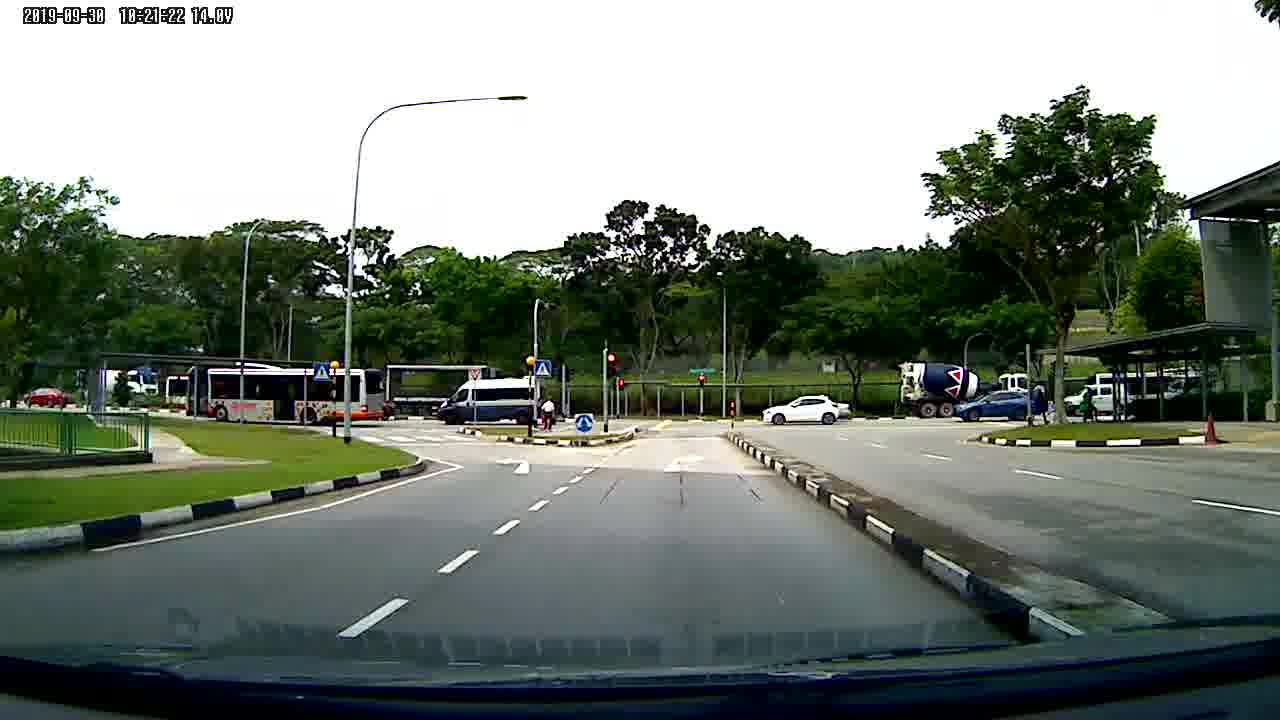bus: (187, 359, 385, 425)
car: (952, 387, 1037, 424), (759, 394, 844, 425), (21, 385, 74, 411)
